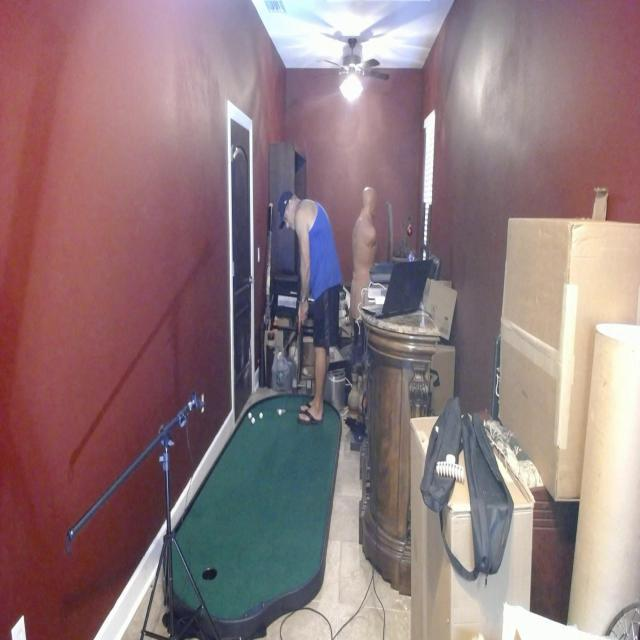GolfBall: (278, 408, 284, 418), (258, 410, 264, 420), (250, 416, 256, 426), (247, 410, 252, 420)
